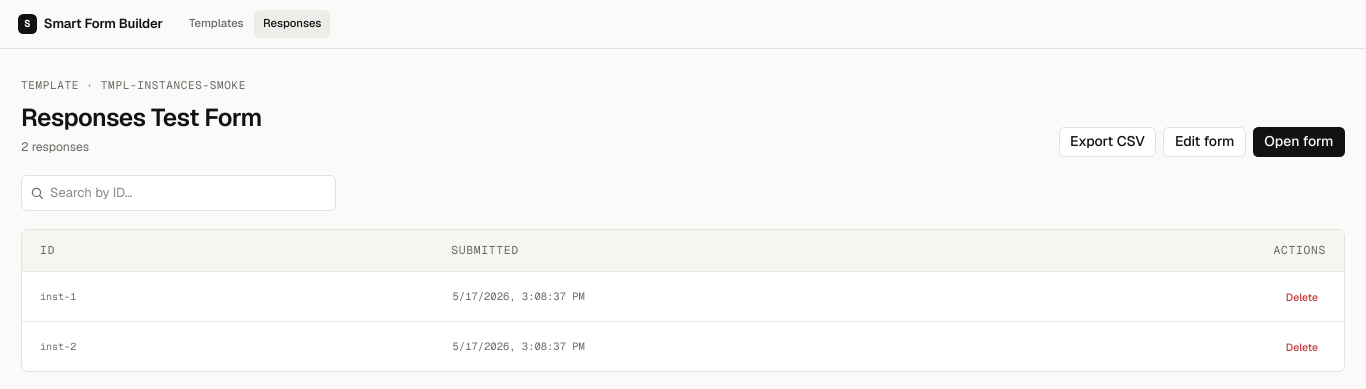
Test: InstancesPage › search › shows all responses when search is cleared
Type "1" into the field with placeholder "Search by ID…" at (178, 192), box [21,174,336,210]
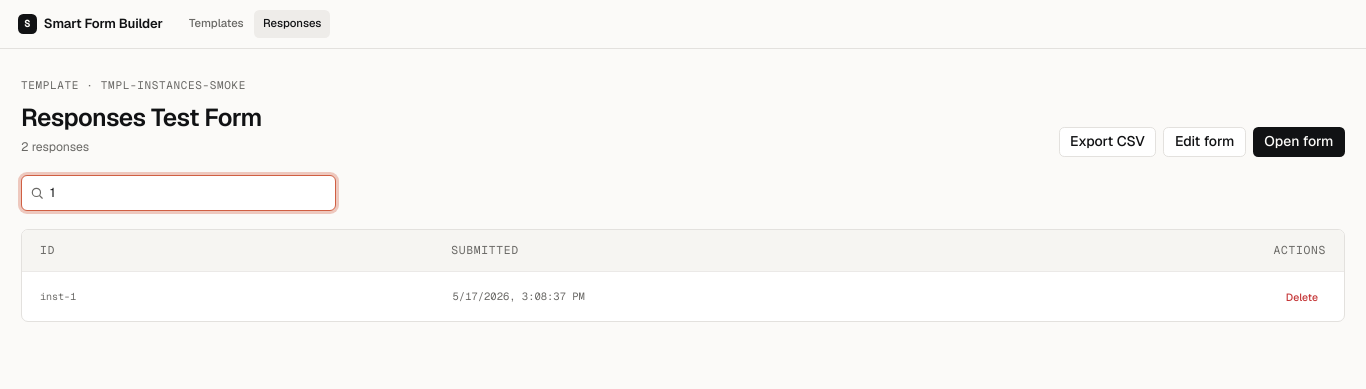
Clear the field with placeholder "Search by ID…" at (178, 192), box [21,174,336,210]
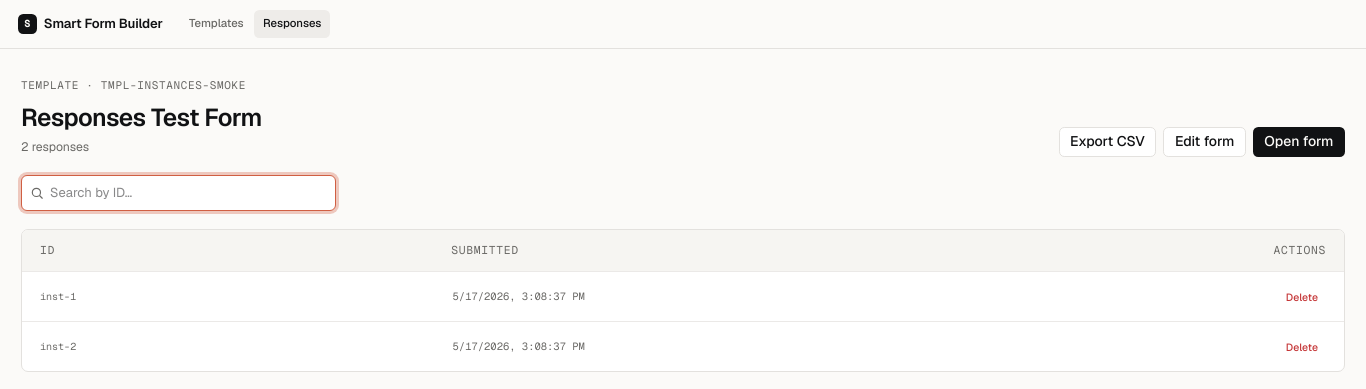
Check: the text "inst-1" is shown, box [40,290,76,303]
Check: the text "inst-2" is shown, box [40,340,76,353]
